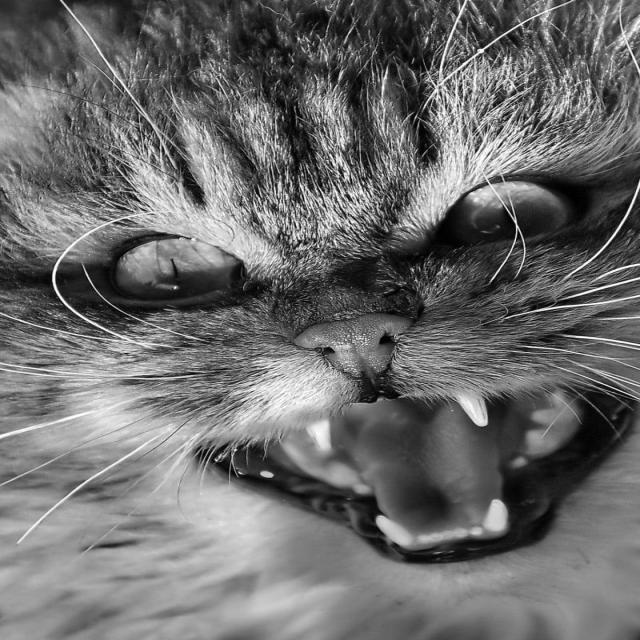Cat: (10, 75, 640, 592)
